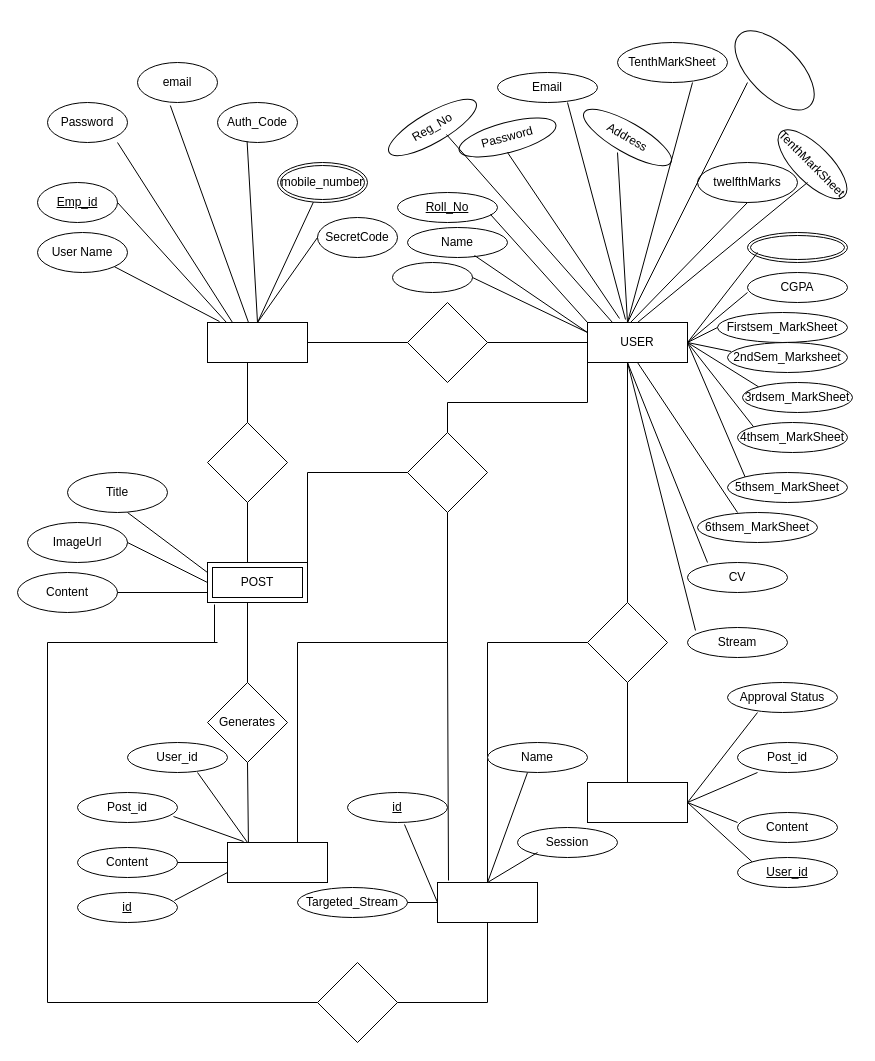
Image size: 875x1061. Some labels were removed from this diagram. Here are the shapes that lost their labels. From the top down, the centre of each, then its label:
At point (774, 70): "TenthMarks".
At point (797, 247): "Mobile_no".
At point (432, 277): "Photo".
At point (257, 342): "ADMIN".
At point (447, 342): "Search".
At point (247, 462): "Creates".
At point (447, 472): "See".
At point (627, 642): "Posts".
At point (637, 802): "REVIEWS".
At point (277, 862): "NOTIFICATION".
At point (487, 902): "COMPANY".
At point (357, 1002): "Gets".
